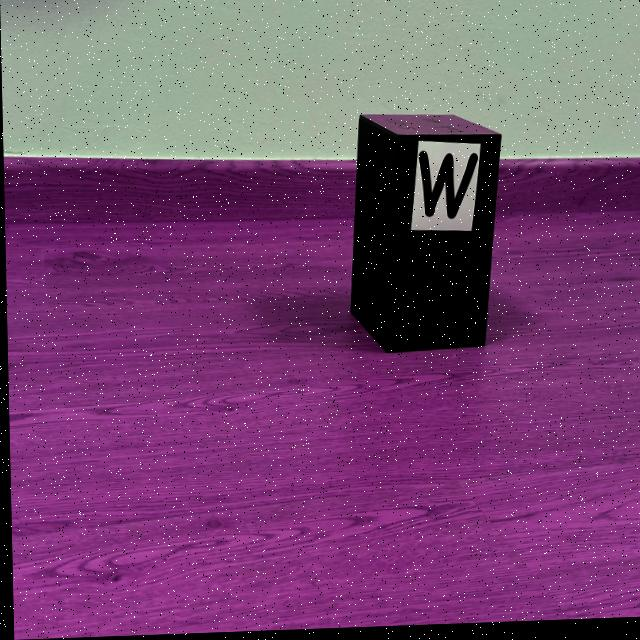W: (418, 154, 477, 222)
